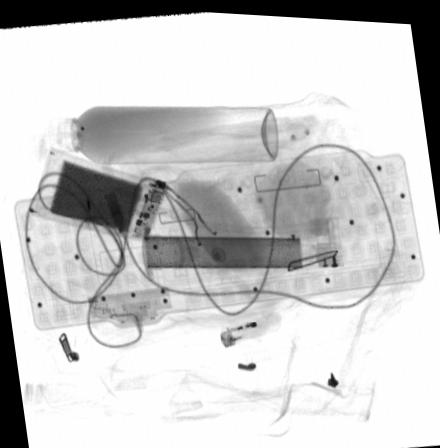Lighter: (219, 305, 282, 346)
Powerbank: (28, 148, 168, 241)
Sprayer: (48, 103, 280, 164)
